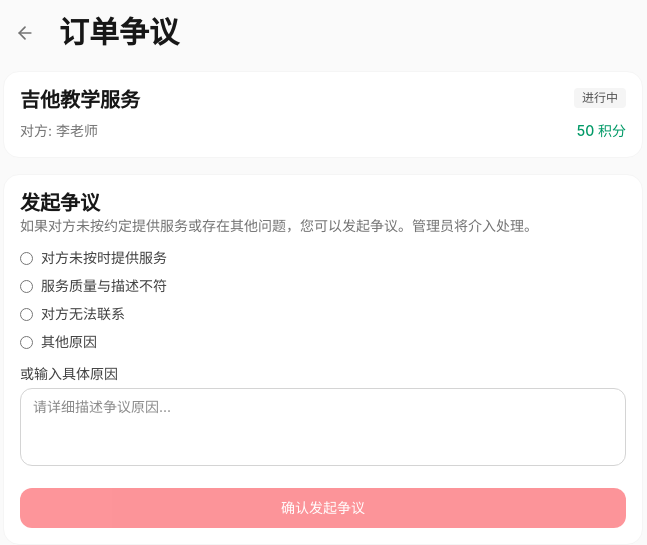
Test case: SkillExchange/Dispute 订单争议 › 选择某个预设原因后 textarea 被清空，提交按钮启用
This screenshot has width=647, height=545.
Expected: the heading "发起争议" is shown, [20,191,100,215]
先在 textarea 输入文本
In the text box with placeholder "请详细描述争议原因...": [323, 427] box [20,388,626,466], type "测试文本"
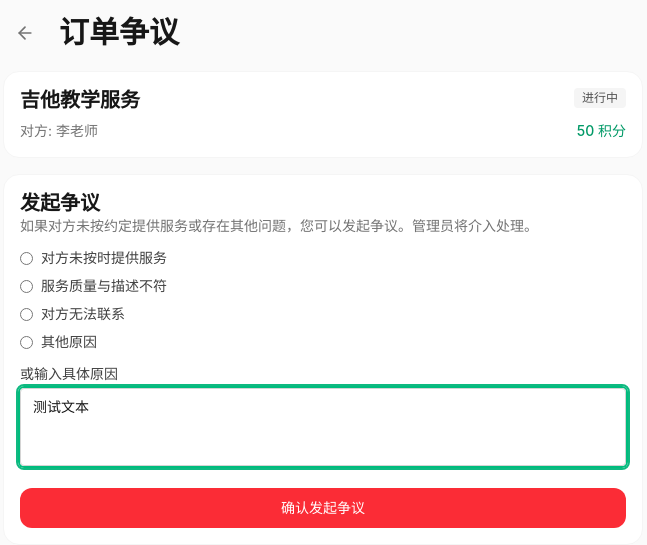
选择第一个预设原因（radio）
Click the radio button labelled "对方未按时提供服务": [26, 258] box [20,252,33,264]
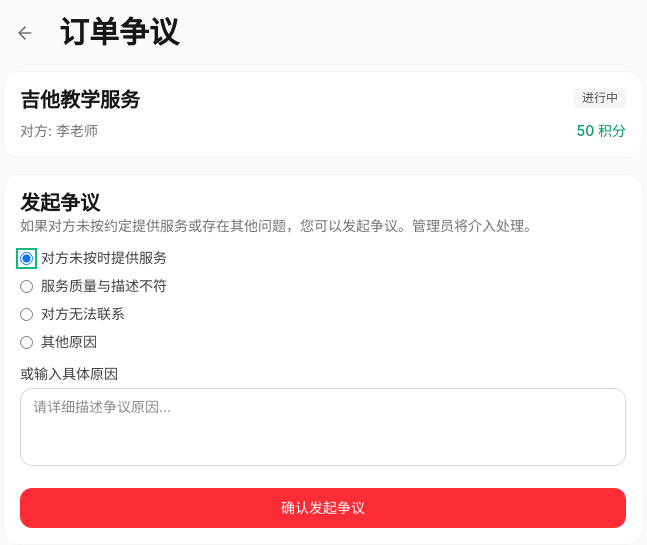
Result: the button "确认发起争议" is enabled at [20,488,626,528]
Result: the text box with placeholder "请详细描述争议原因..." is empty at [20,388,626,466]
